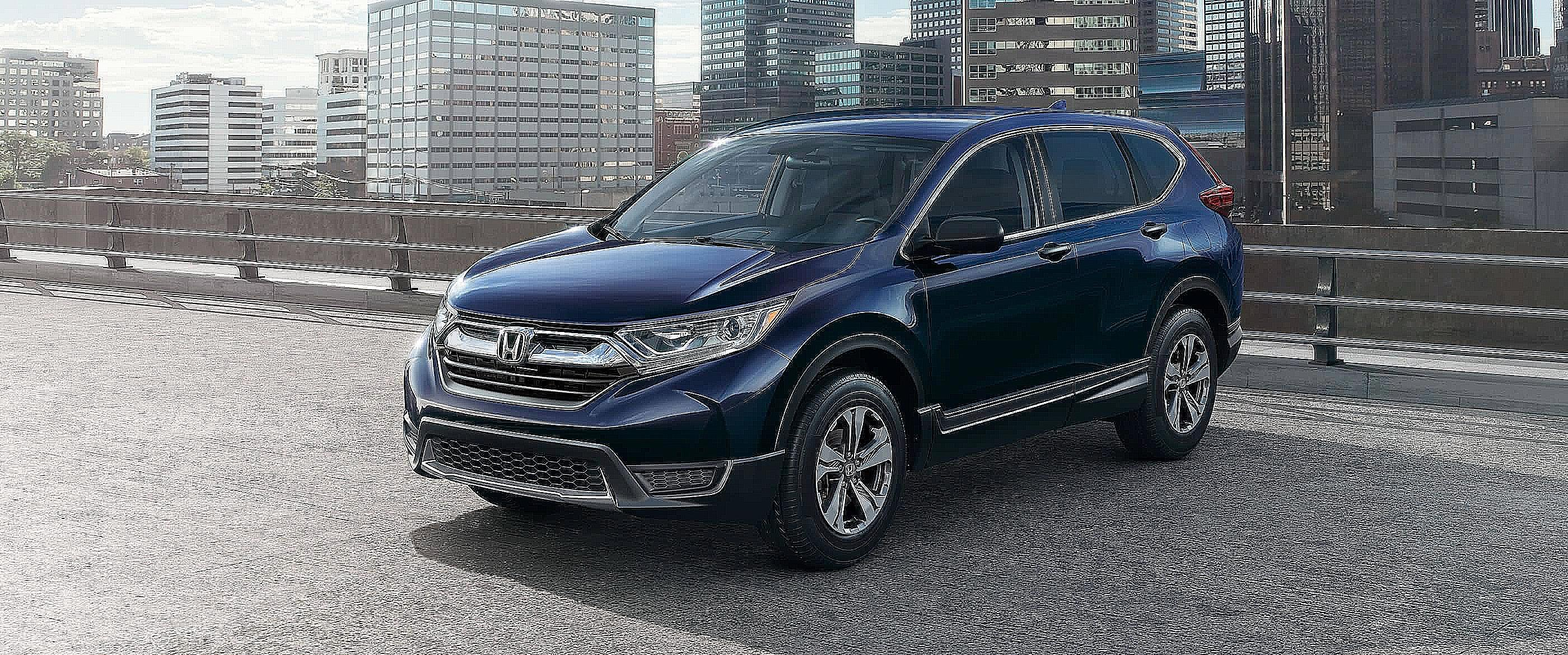Car hood: (437, 224, 843, 316)
Fender - -F-L-: (759, 223, 956, 450)
Fender - -R-L-: (1146, 152, 1229, 357)
Front bumper: (392, 337, 811, 514)
Headlight - -L-: (611, 287, 798, 377)
Passenger-s door - -F-L-: (912, 102, 1089, 471)
Passenger-s door - -R-L-: (1025, 95, 1165, 424)
Rear bumper: (1208, 228, 1249, 376), (432, 286, 459, 357)
Rear light - -L-: (1200, 186, 1243, 215)
Side bumper - -L-: (916, 330, 1154, 481)
Side mirror - -L-: (903, 213, 1005, 274)
